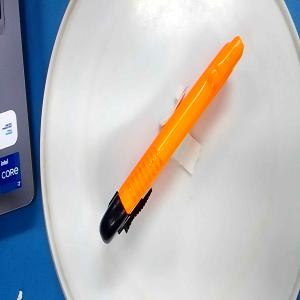estilete: (99, 34, 245, 245)
